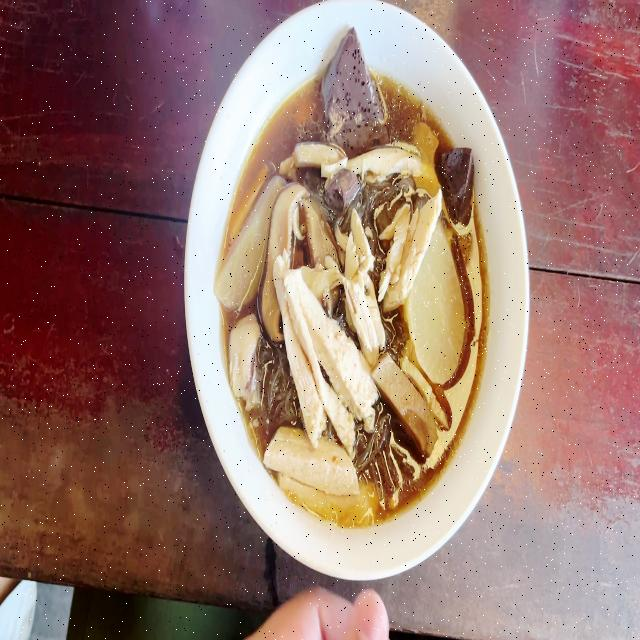boiled_chicken_blood_jelly: (325, 34, 379, 153), (444, 138, 474, 212), (322, 169, 363, 222)
chicken_shredded: (274, 266, 369, 440), (272, 441, 367, 535), (291, 137, 434, 188), (383, 194, 444, 296), (344, 218, 388, 354), (230, 311, 260, 420)
daikon_radish: (212, 199, 269, 313), (419, 252, 465, 372)
noodle: (232, 76, 484, 511)
